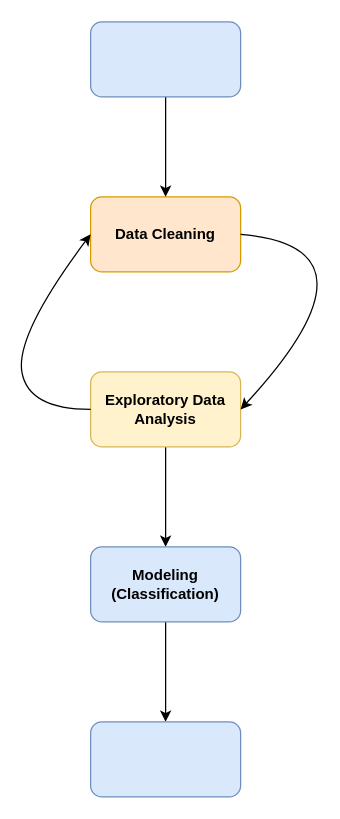
This 340x819 diagram has some shape labels left out. Each missing label, with the centre of its shape:
"Data acquisition. Data loading" goes at pixel 165 59.
"Results" goes at pixel 165 759.
